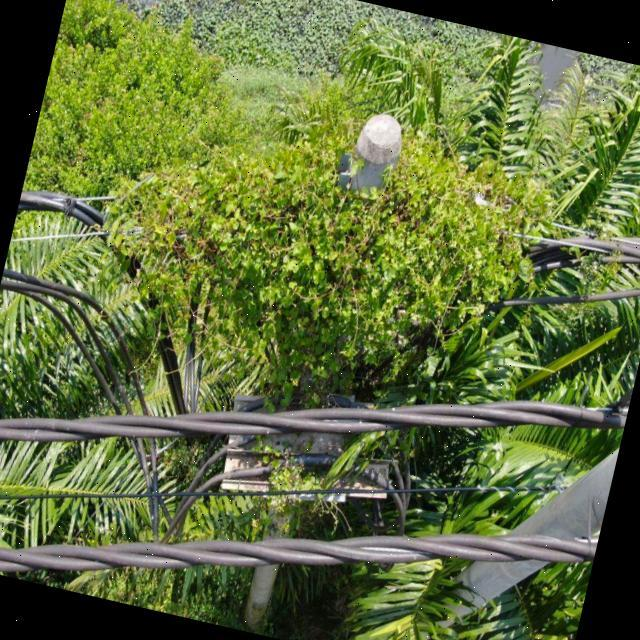critical vegetation: (78, 68, 566, 405)
